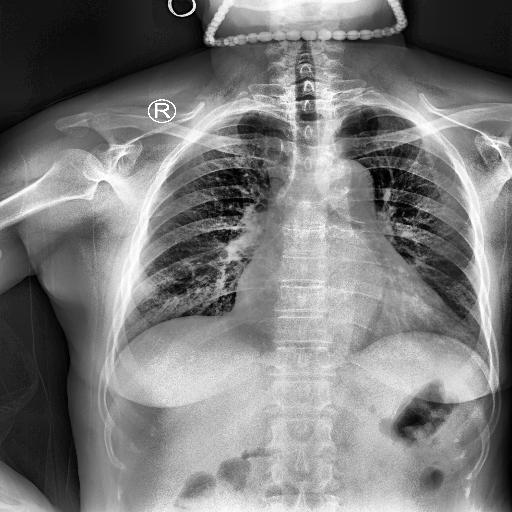0- Aortic enlargement: (286, 158, 374, 207)
2- Calcification: (338, 156, 352, 196)
3- Cardiomegaly: (212, 256, 477, 356), (216, 264, 460, 350), (232, 284, 458, 336)
